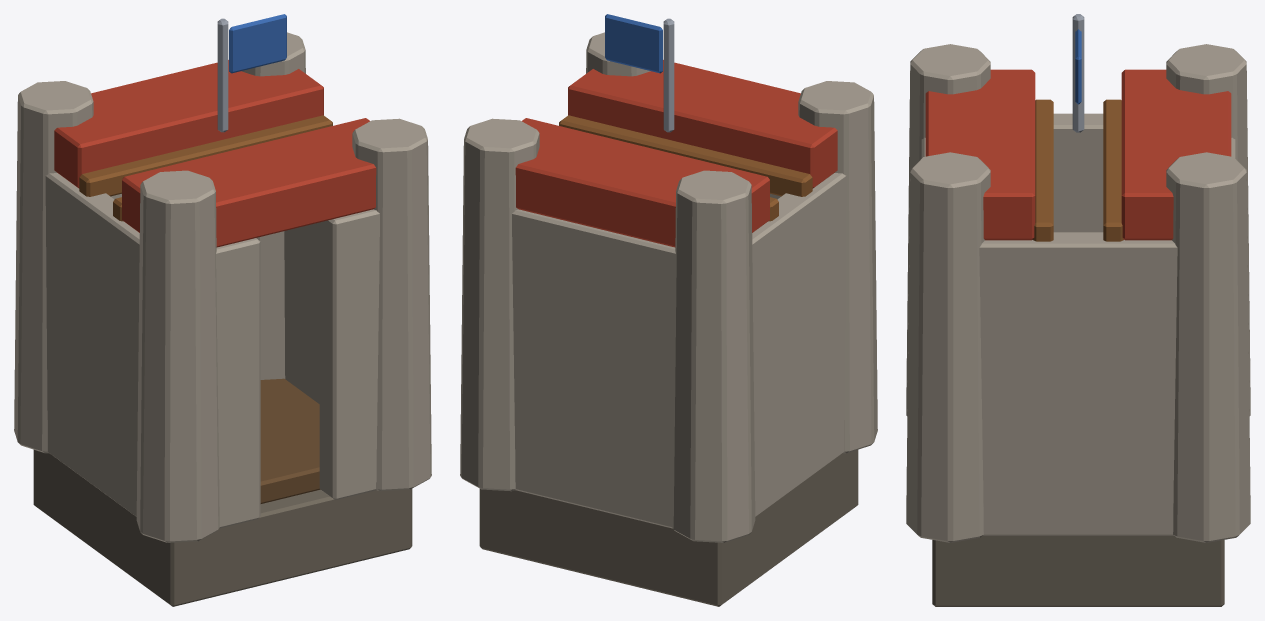
File: tower_barracks_2.glb
3 views of the same model, side by side, from view 1: azimuth 30°, elevation 25°; view 2: azimuth 150°, elevation 25°; view 3: azimuth 270°, elevation 25° (orthographic). The views are drawn at different scales.
Visible parts, largest first — view 1: SM_Tower_Barracks_t2; view 2: SM_Tower_Barracks_t2; view 3: SM_Tower_Barracks_t2.
Boxes of the visible parts, x1,y1,x2,y2 form: SM_Tower_Barracks_t2: (14,14,431,606); SM_Tower_Barracks_t2: (460,14,877,606); SM_Tower_Barracks_t2: (906,14,1250,606).
Bounding box in the file's own units: 1.48 × 2.52 × 1.48.
